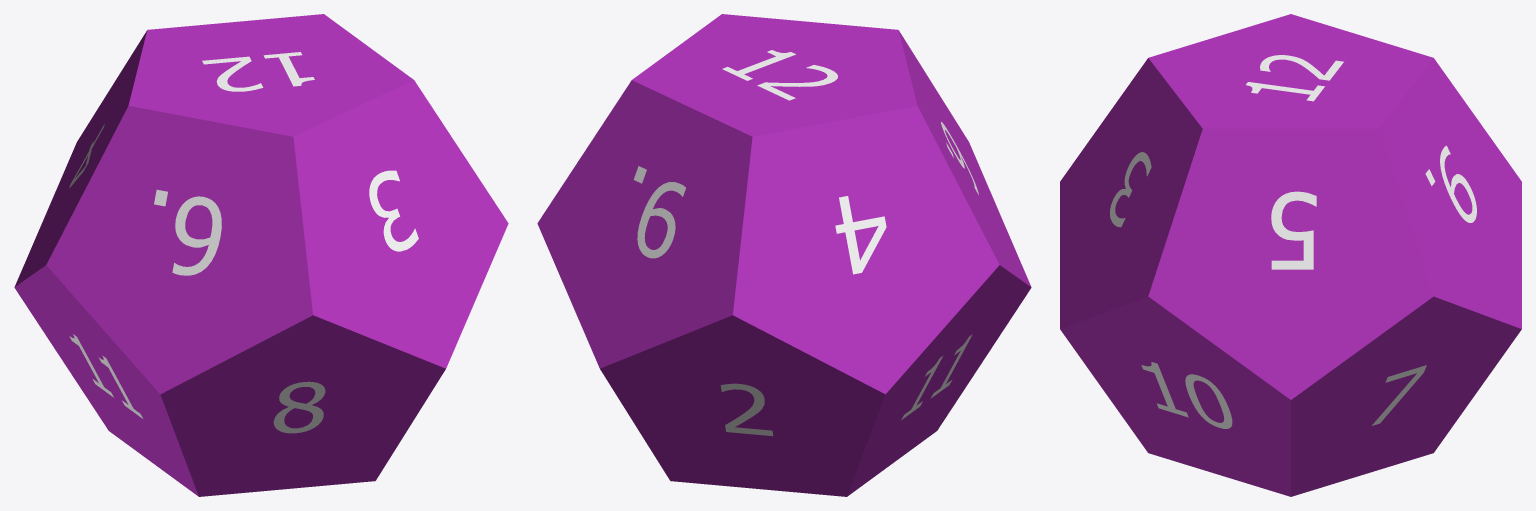
Rendered from dnd_dice_d12.dae.
The picture shows the model from 3 angles, left to right: view 1: azimuth 30°, elevation 25°; view 2: azimuth 150°, elevation 25°; view 3: azimuth 270°, elevation 25°; orthographic projection. The views are drawn at different scales.
Parts seen in each view (by area): view 1: group_1, instance_11, instance_9, instance_6, instance_0, instance_1; view 2: group_1, instance_3, instance_5, instance_6, instance_8, instance_1; view 3: group_1, instance_4, instance_2, instance_6, instance_3, instance_0, instance_10.
Boxes of the visible parts, box(x1,y1,x2,y2) form: group_1: box(14, 14, 508, 496); instance_11: box(154, 189, 221, 275); instance_9: box(273, 381, 325, 433); instance_6: box(202, 52, 314, 91); instance_0: box(369, 170, 418, 251); instance_1: box(69, 334, 142, 418); group_1: box(537, 14, 1031, 496); instance_3: box(633, 166, 685, 258); instance_5: box(835, 196, 886, 274); instance_6: box(722, 50, 837, 100); instance_8: box(720, 383, 773, 436); instance_1: box(901, 334, 972, 419); group_1: box(1060, 14, 1521, 496); instance_4: box(1271, 191, 1316, 269); instance_2: box(1141, 362, 1232, 428); instance_6: box(1246, 55, 1343, 101); instance_3: box(1425, 145, 1476, 222); instance_0: box(1110, 152, 1151, 227); instance_10: box(1372, 365, 1426, 425).
Bounding box in the file's own units: 1.23 × 1.17 × 0.9954.
